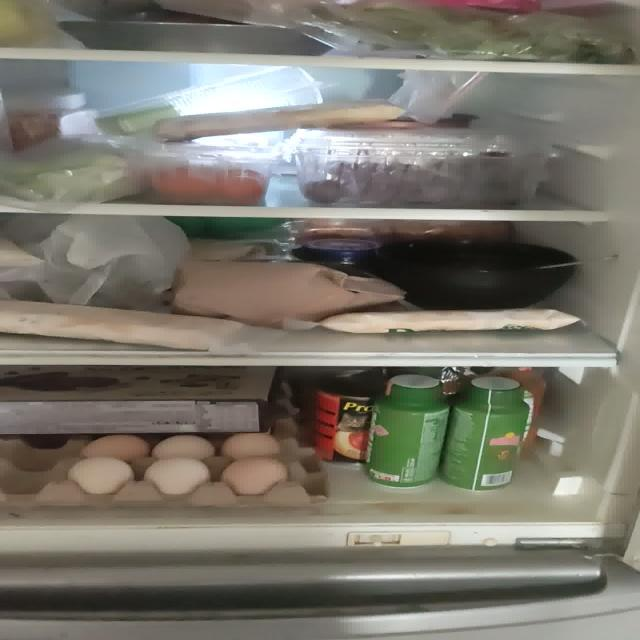egg: (0, 432, 332, 506)
grape: (300, 151, 528, 207)
tempeh: (36, 218, 190, 306), (0, 300, 246, 350), (152, 102, 407, 141), (318, 308, 581, 333)
